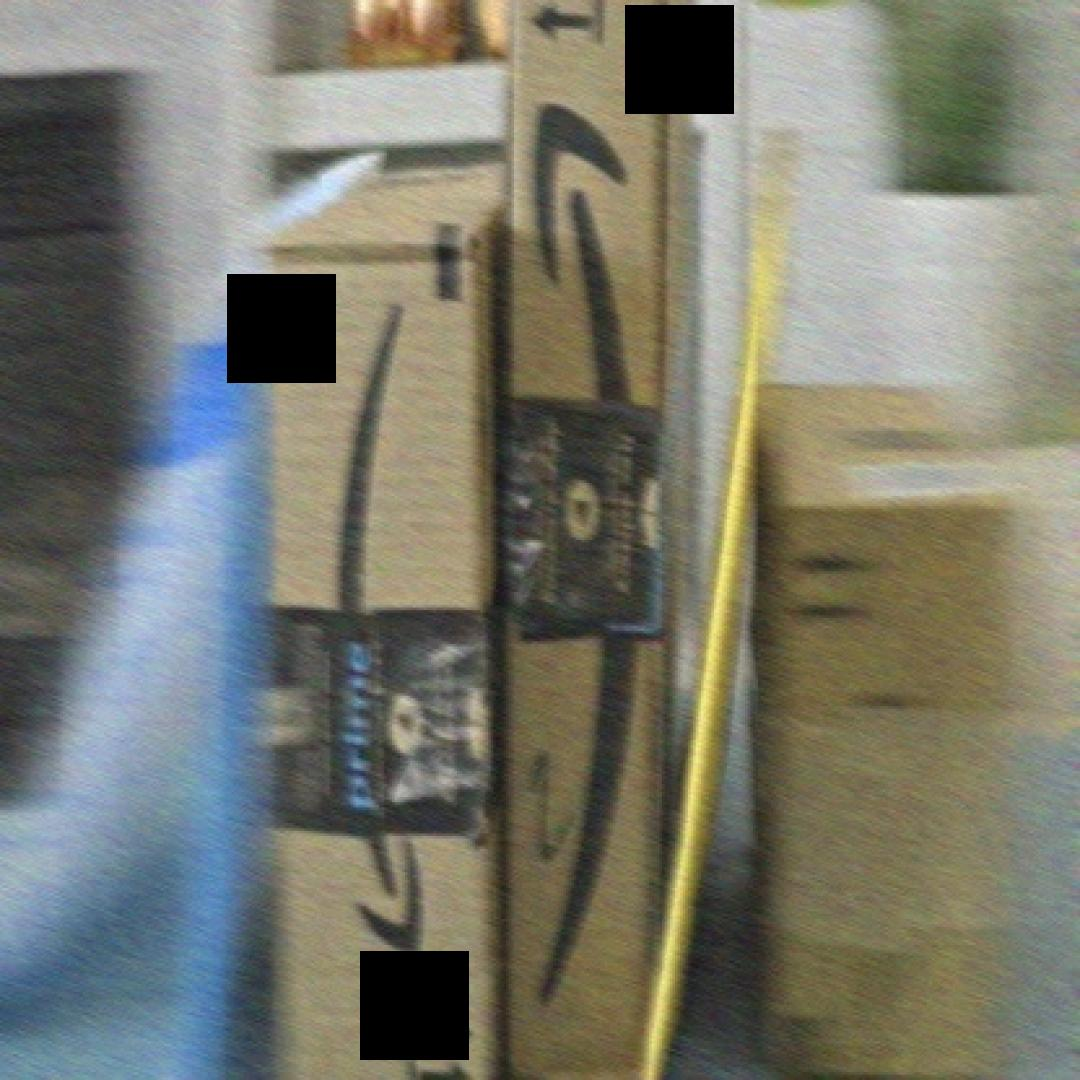package: (255, 148, 512, 1078), (509, 0, 701, 1077), (761, 374, 1036, 1078)
